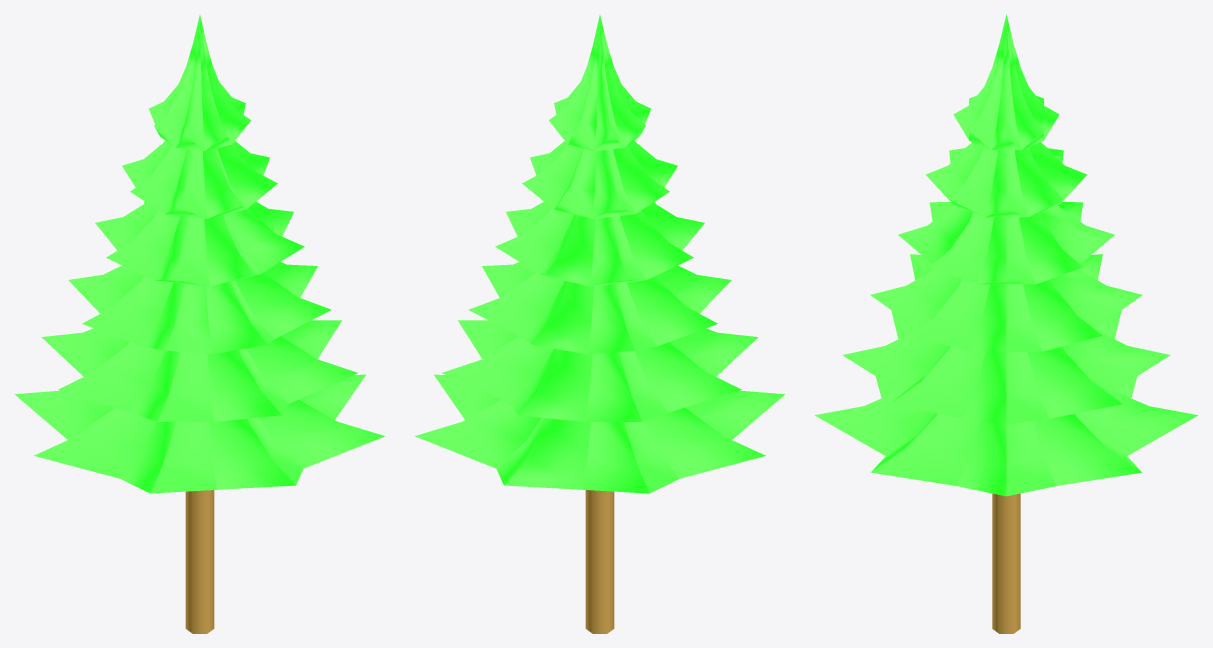
The model's file is pine_tree_0.glb.
The picture shows the model from 3 angles, left to right: view 1: azimuth 30°, elevation 25°; view 2: azimuth 150°, elevation 25°; view 3: azimuth 270°, elevation 25°; orthographic projection.
Visible parts, largest first — view 1: foliage_5, foliage_4, foliage_3, foliage_2, foliage_1, foliage_0, trunk; view 2: foliage_5, foliage_4, foliage_3, foliage_2, foliage_1, foliage_0, trunk; view 3: foliage_5, foliage_4, foliage_3, foliage_2, foliage_1, foliage_0, trunk.
Boxes of the visible parts, x1,y1,x2,y2 form: foliage_5: (15,374,384,493); foliage_4: (41,320,357,421); foliage_3: (68,262,331,354); foliage_2: (95,201,304,286); foliage_1: (122,140,277,218); foliage_0: (149,15,250,151); trunk: (185,490,214,633); foliage_5: (415,374,784,493); foliage_4: (442,320,758,421); foliage_3: (468,262,731,354); foliage_2: (495,201,704,286); foliage_1: (522,140,677,218); foliage_0: (549,15,650,151); trunk: (585,490,614,633); foliage_5: (815,376,1197,496); foliage_4: (842,310,1170,424); foliage_3: (870,254,1142,352); foliage_2: (898,202,1114,284); foliage_1: (926,142,1086,217); foliage_0: (953,14,1059,149); trunk: (992,493,1020,633).
Bounding box in the file's own units: 5.47 × 9.66 × 5.47.
